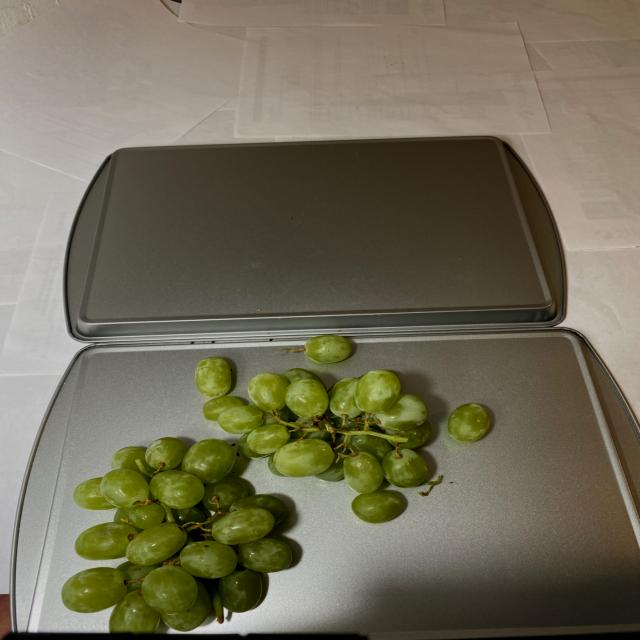grapes: (57, 334, 496, 632)
